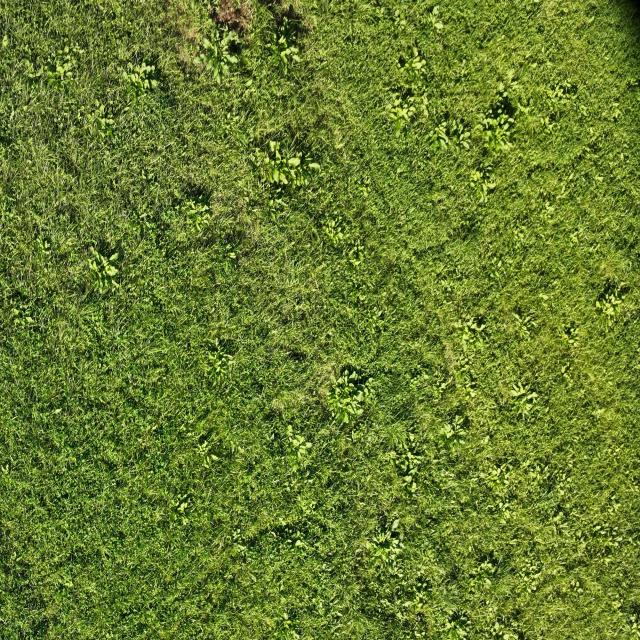rumex: (212, 497, 336, 635), (91, 193, 175, 308), (556, 278, 632, 377), (366, 504, 413, 572), (448, 311, 491, 381), (531, 0, 595, 46), (383, 1, 423, 70), (399, 577, 444, 635), (350, 290, 390, 351), (389, 434, 427, 498), (477, 457, 519, 514), (332, 0, 372, 46), (500, 79, 534, 132), (179, 190, 216, 238), (394, 44, 428, 95), (81, 96, 116, 144), (437, 413, 471, 459), (434, 110, 468, 156), (512, 550, 547, 594), (466, 159, 498, 206), (480, 113, 514, 155), (6, 294, 38, 335), (386, 95, 416, 138), (506, 380, 538, 419), (511, 306, 541, 343), (280, 151, 308, 189), (125, 62, 156, 93), (560, 323, 581, 363), (286, 433, 311, 463), (173, 491, 195, 521), (196, 438, 216, 471), (392, 3, 412, 34), (463, 314, 488, 338), (136, 201, 156, 230), (547, 82, 572, 105), (428, 4, 445, 34), (24, 58, 44, 83), (348, 244, 366, 268), (221, 252, 239, 276), (46, 64, 62, 89), (254, 125, 278, 140), (211, 360, 228, 380), (540, 115, 556, 136), (281, 45, 300, 62), (561, 363, 575, 386), (494, 85, 510, 102), (510, 381, 528, 396), (345, 400, 360, 418), (221, 29, 236, 47), (624, 78, 640, 94), (442, 423, 457, 440), (504, 66, 517, 84), (338, 408, 350, 425), (124, 72, 138, 86), (187, 2, 201, 16), (90, 245, 102, 261), (481, 129, 494, 143), (352, 389, 365, 403), (104, 264, 118, 277), (196, 52, 209, 66), (488, 269, 500, 284), (604, 303, 616, 318), (438, 132, 449, 148), (482, 115, 495, 128), (287, 156, 301, 168), (268, 168, 278, 184), (610, 108, 622, 121), (472, 124, 485, 136), (470, 169, 481, 183), (277, 171, 288, 185), (461, 332, 470, 348), (610, 295, 622, 307), (108, 252, 120, 264), (308, 162, 321, 173), (96, 102, 106, 116), (391, 517, 401, 531), (206, 57, 216, 71), (565, 171, 576, 183), (140, 64, 151, 76), (235, 543, 248, 553), (420, 105, 429, 119), (139, 200, 149, 212), (334, 140, 346, 150), (393, 127, 402, 140), (494, 618, 502, 632), (432, 4, 440, 18), (294, 539, 305, 549), (56, 65, 66, 76), (269, 140, 278, 152), (254, 147, 264, 157), (502, 631, 513, 640), (278, 35, 287, 46), (1, 34, 8, 48), (290, 463, 298, 475), (286, 424, 294, 436), (303, 441, 313, 450), (505, 116, 515, 125), (595, 298, 603, 309), (614, 535, 625, 543), (52, 407, 62, 415), (227, 252, 236, 260), (295, 151, 303, 160), (149, 64, 156, 74)
